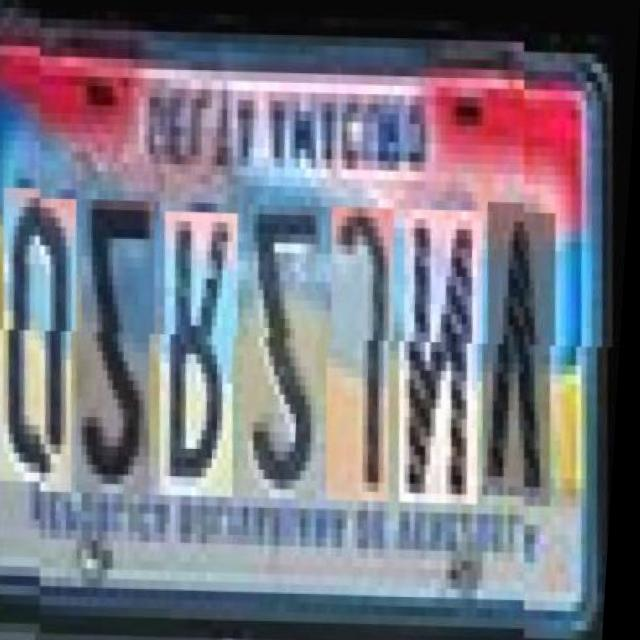0: (0, 197, 98, 491)
2: (242, 202, 343, 497), (77, 199, 176, 494)
j: (326, 205, 416, 499)
n: (398, 206, 505, 501)
r: (160, 209, 259, 496)
v: (483, 199, 579, 494)
